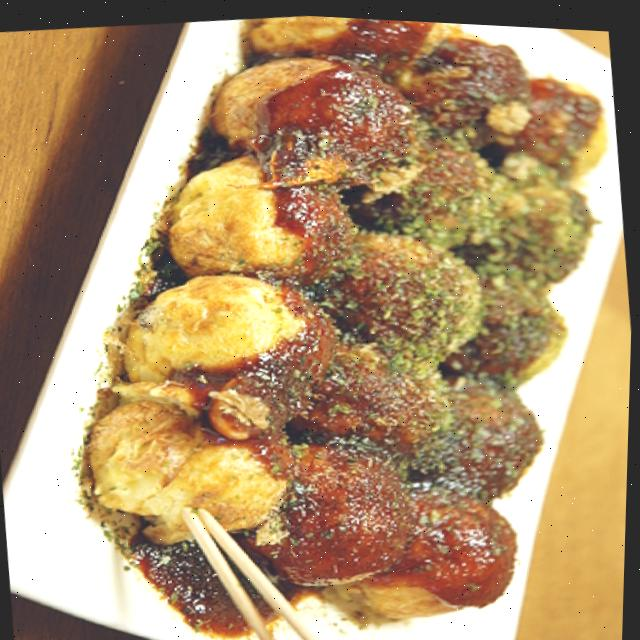炸货点心: (35, 2, 640, 640)
